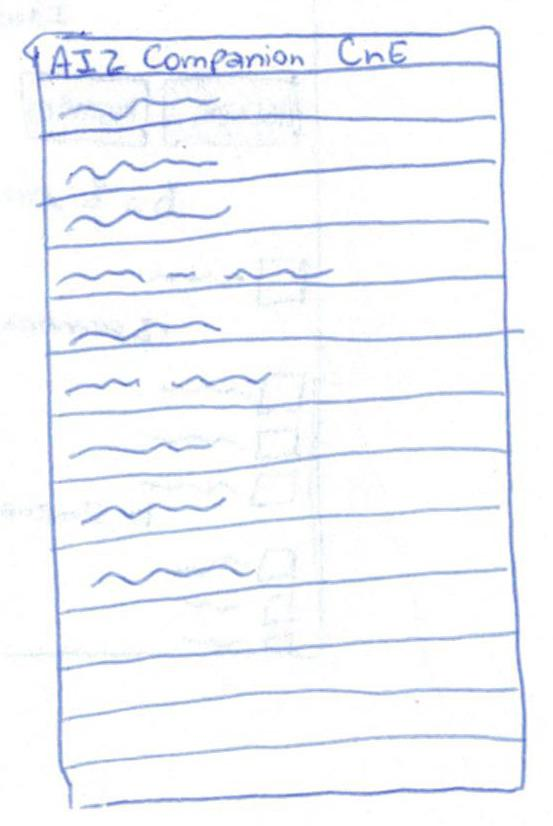Label: (46, 37, 410, 79), (54, 261, 333, 289), (63, 369, 272, 398), (88, 560, 257, 595), (64, 151, 221, 186), (62, 202, 231, 232), (56, 91, 221, 121), (65, 316, 223, 347), (79, 495, 227, 528), (68, 436, 213, 463)
Screen: (31, 31, 524, 808)
